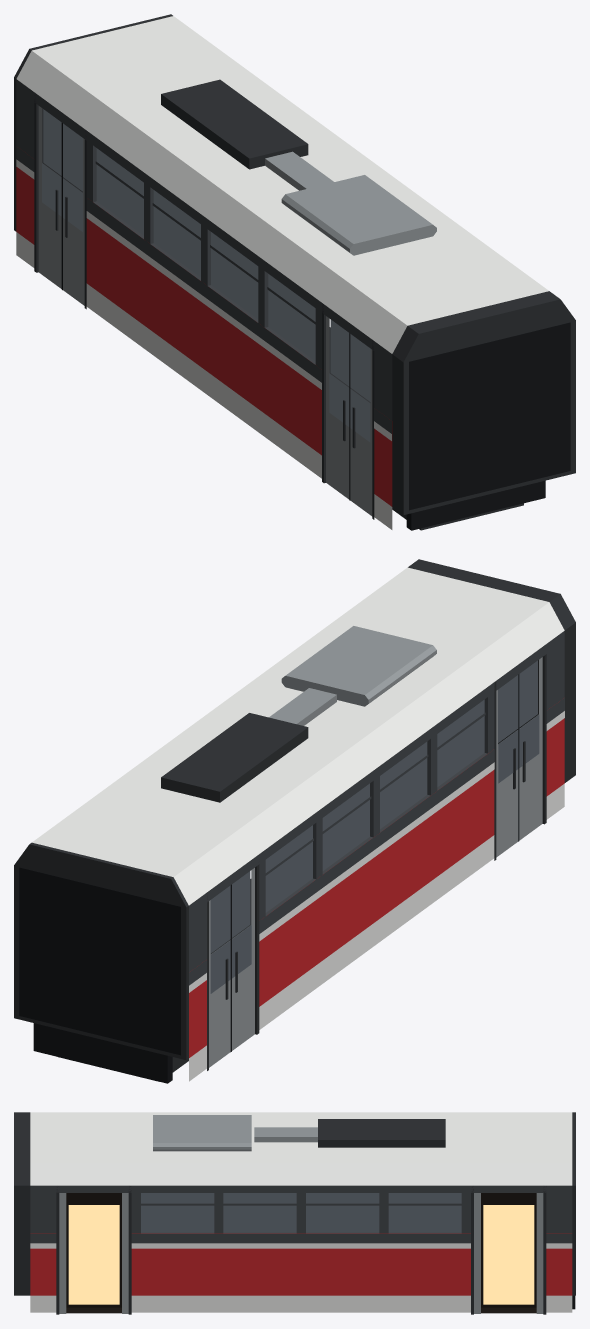
The model's file is kt8d5-b-open.glb.
3 renders of one model, top to bottom at view 1: azimuth 30°, elevation 25°; view 2: azimuth 150°, elevation 25°; view 3: azimuth 270°, elevation 25°, orthographic. The views are drawn at different scales.
Parts seen in each view (by area): view 1: kt8d5-b-open; view 2: kt8d5-b-open; view 3: kt8d5-b-open.
Boxes of the visible parts, x1,y1,x2,y2 form: kt8d5-b-open: (14, 14, 575, 530); kt8d5-b-open: (14, 559, 575, 1083); kt8d5-b-open: (14, 1112, 575, 1314).
Bounding box in the file's own units: 2.48 × 3.1 × 9.7.
